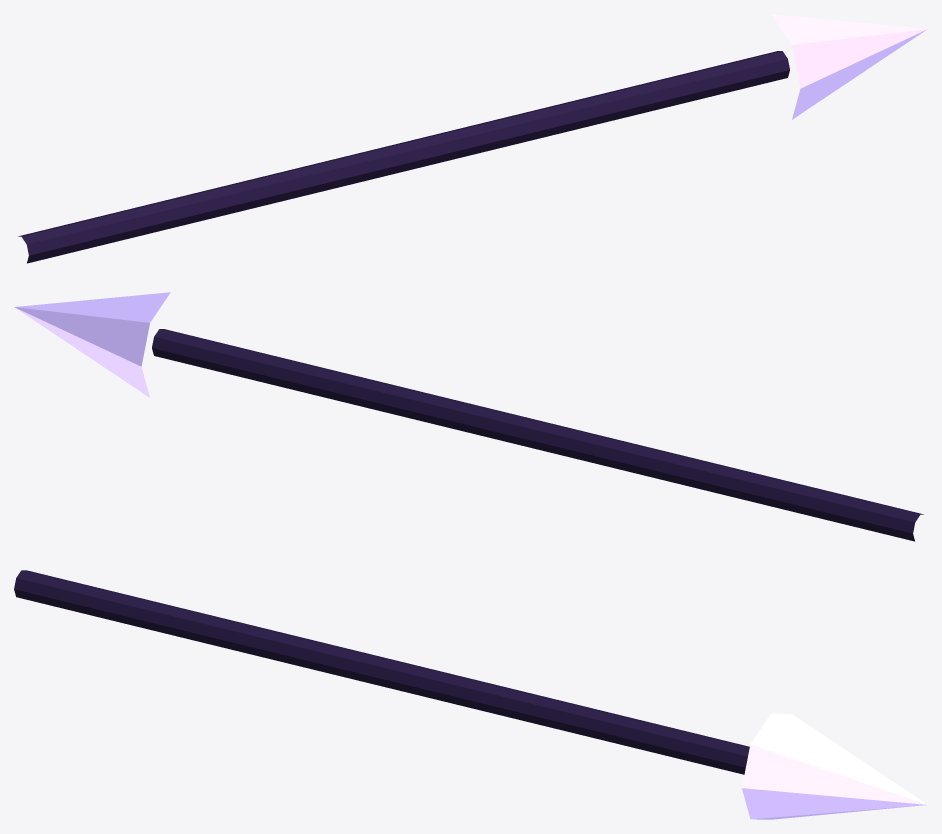
Rendered from slardar.glb.
3 renders of one model, top to bottom at view 1: azimuth 30°, elevation 25°; view 2: azimuth 150°, elevation 25°; view 3: azimuth 330°, elevation 25°, orthographic.
Visible parts, largest first — view 1: slardar-shaft, slardar-tip; view 2: slardar-shaft, slardar-tip; view 3: slardar-shaft, slardar-tip.
Part boxes in pixels (x1=…): slardar-shaft: x1=18, y1=51, x2=789, y2=263; slardar-tip: x1=771, y1=14, x2=927, y2=119; slardar-shaft: x1=152, y1=329, x2=923, y2=541; slardar-tip: x1=14, y1=292, x2=170, y2=397; slardar-shaft: x1=14, y1=570, x2=749, y2=774; slardar-tip: x1=742, y1=713, x2=927, y2=819.
Bounding box in the file's own units: 1.97 × 0.22 × 0.22.
